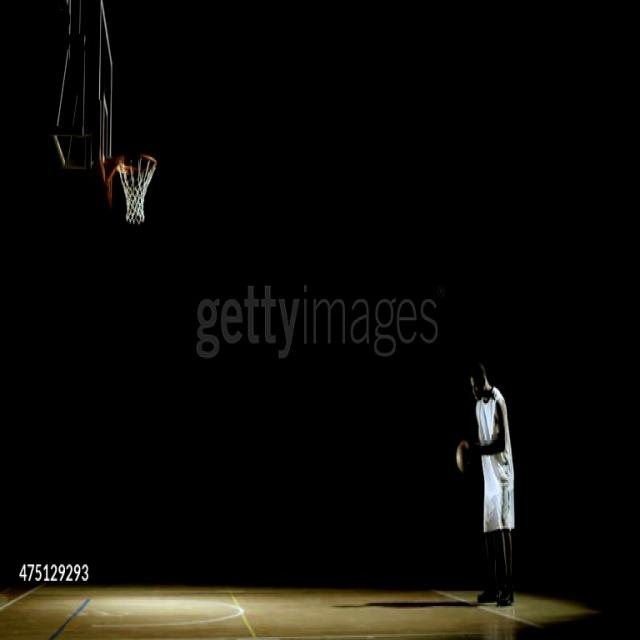ball: (456, 440, 474, 473)
